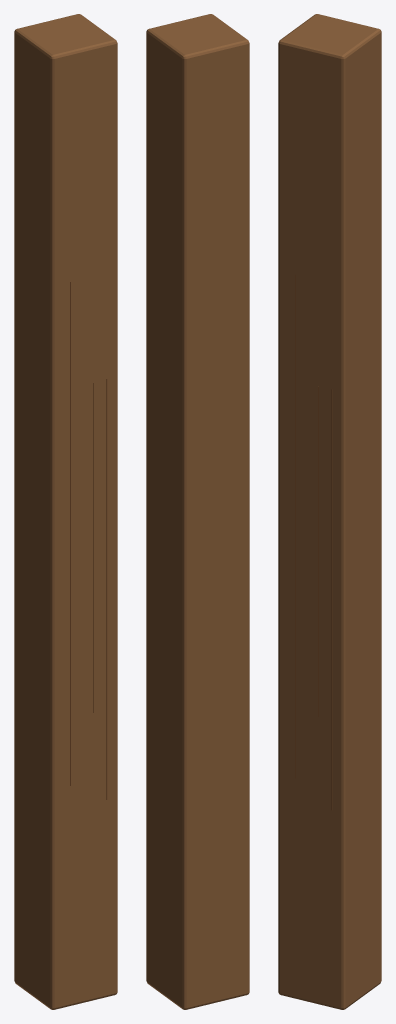
Rendered from SM_WoodBeam_300.fbx.
The picture shows the model from 3 angles, left to right: view 1: azimuth 30°, elevation 25°; view 2: azimuth 210°, elevation 25°; view 3: azimuth 330°, elevation 25°; orthographic projection.
Visible parts, largest first — view 1: SM_WoodBeam_300; view 2: SM_WoodBeam_300; view 3: SM_WoodBeam_300.
Boxes of the visible parts, x1,y1,x2,y2 form: SM_WoodBeam_300: (14, 14, 117, 1009); SM_WoodBeam_300: (146, 14, 249, 1009); SM_WoodBeam_300: (278, 14, 381, 1009).
Size of what is drawn, in the model's own units: 0.22 by 0.2216 by 3.
